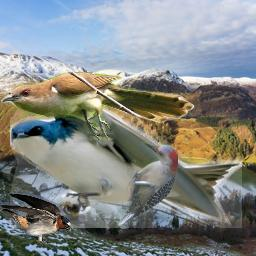Cuckoo: (1, 72, 196, 140)
Swallow: (10, 102, 242, 228), (0, 193, 71, 247)
Woodpecker: (116, 142, 178, 228)
